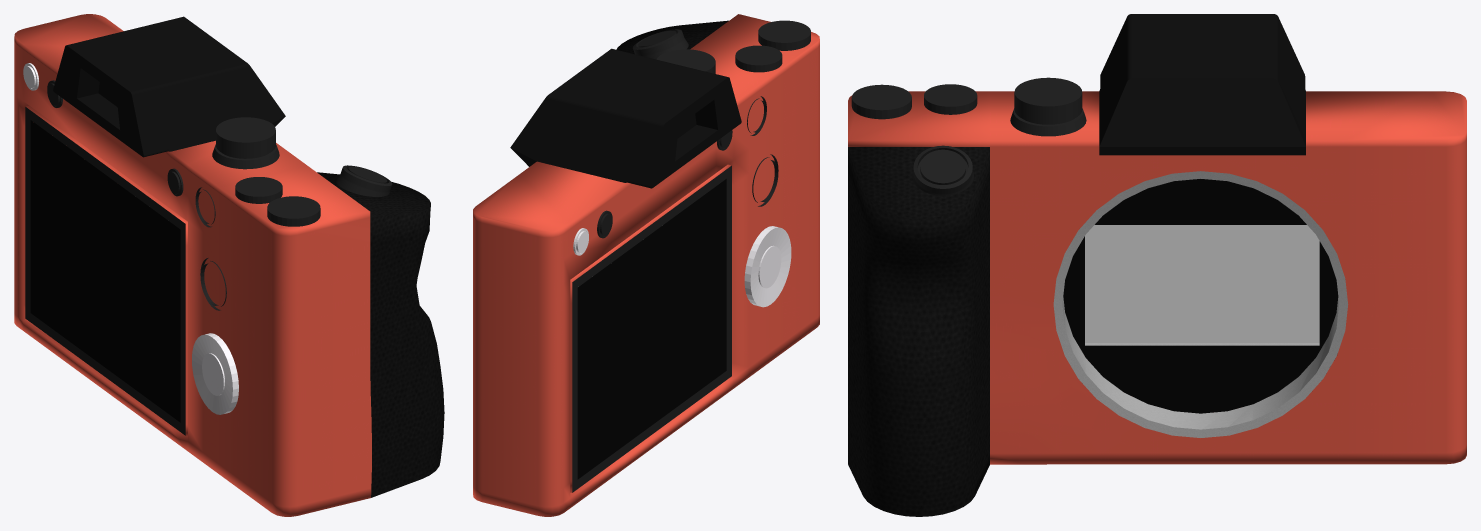
The model's file is cam-final-smooth1-transformed.glb.
3 views of the same model, side by side, from view 1: azimuth 30°, elevation 25°; view 2: azimuth 150°, elevation 25°; view 3: azimuth 270°, elevation 25° (orthographic). The views are drawn at different scales.
Parts seen in each view (by area): view 1: Cam, Iso Button, Viewfinder, Camera Handle Missing, Button; view 2: Cam, Iso Button, Viewfinder, Button, Camera Handle Missing; view 3: Cam, Camera Handle Missing, Sensor, Viewfinder, Iso Button, Sensor Circle, Button.
Boxes of the visible parts, x1,y1,x2,y2 form: Cam: (14, 14, 371, 516); Iso Button: (23, 63, 238, 422); Viewfinder: (53, 16, 285, 157); Camera Handle Missing: (317, 172, 444, 497); Button: (25, 80, 392, 435); Cam: (473, 14, 819, 516); Iso Button: (573, 179, 791, 479); Viewfinder: (510, 48, 741, 188); Button: (572, 20, 810, 492); Camera Handle Missing: (616, 20, 728, 54); Cam: (848, 91, 1466, 464); Camera Handle Missing: (848, 147, 989, 516); Sensor: (1085, 225, 1319, 342); Viewfinder: (1099, 14, 1305, 155); Iso Button: (1063, 179, 1338, 413); Sensor Circle: (1053, 171, 1348, 437); Button: (851, 77, 1086, 195).
Bounding box in the file's own units: 1.57 × 2.39 × 3.46.
7 materials, 7 textured.
